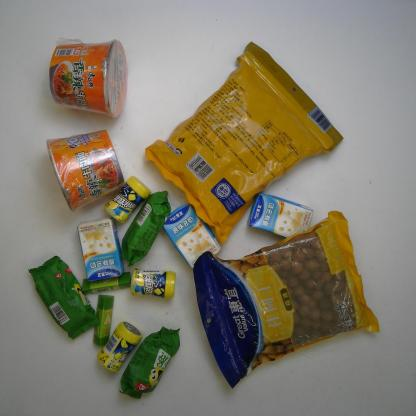Dessert: (26, 254, 101, 341), (117, 324, 182, 402), (119, 189, 172, 270)
Dried Food: (141, 39, 345, 247), (191, 209, 382, 390)
Gum: (102, 173, 154, 226), (95, 320, 144, 373), (130, 268, 177, 300)
Instant Noodles: (46, 34, 129, 120), (44, 128, 127, 213)
Milk: (161, 201, 223, 272), (245, 190, 316, 240), (76, 215, 125, 283)
Stationery: (80, 269, 132, 296), (91, 293, 116, 348)
